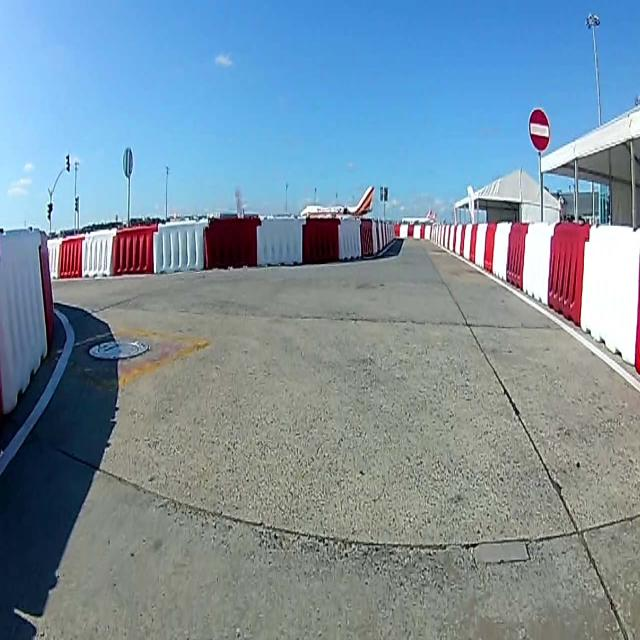girisyok: (528, 108, 550, 152)
